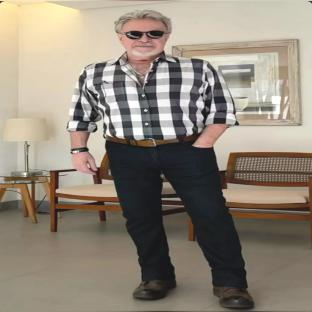Human: (67, 10, 254, 308)
